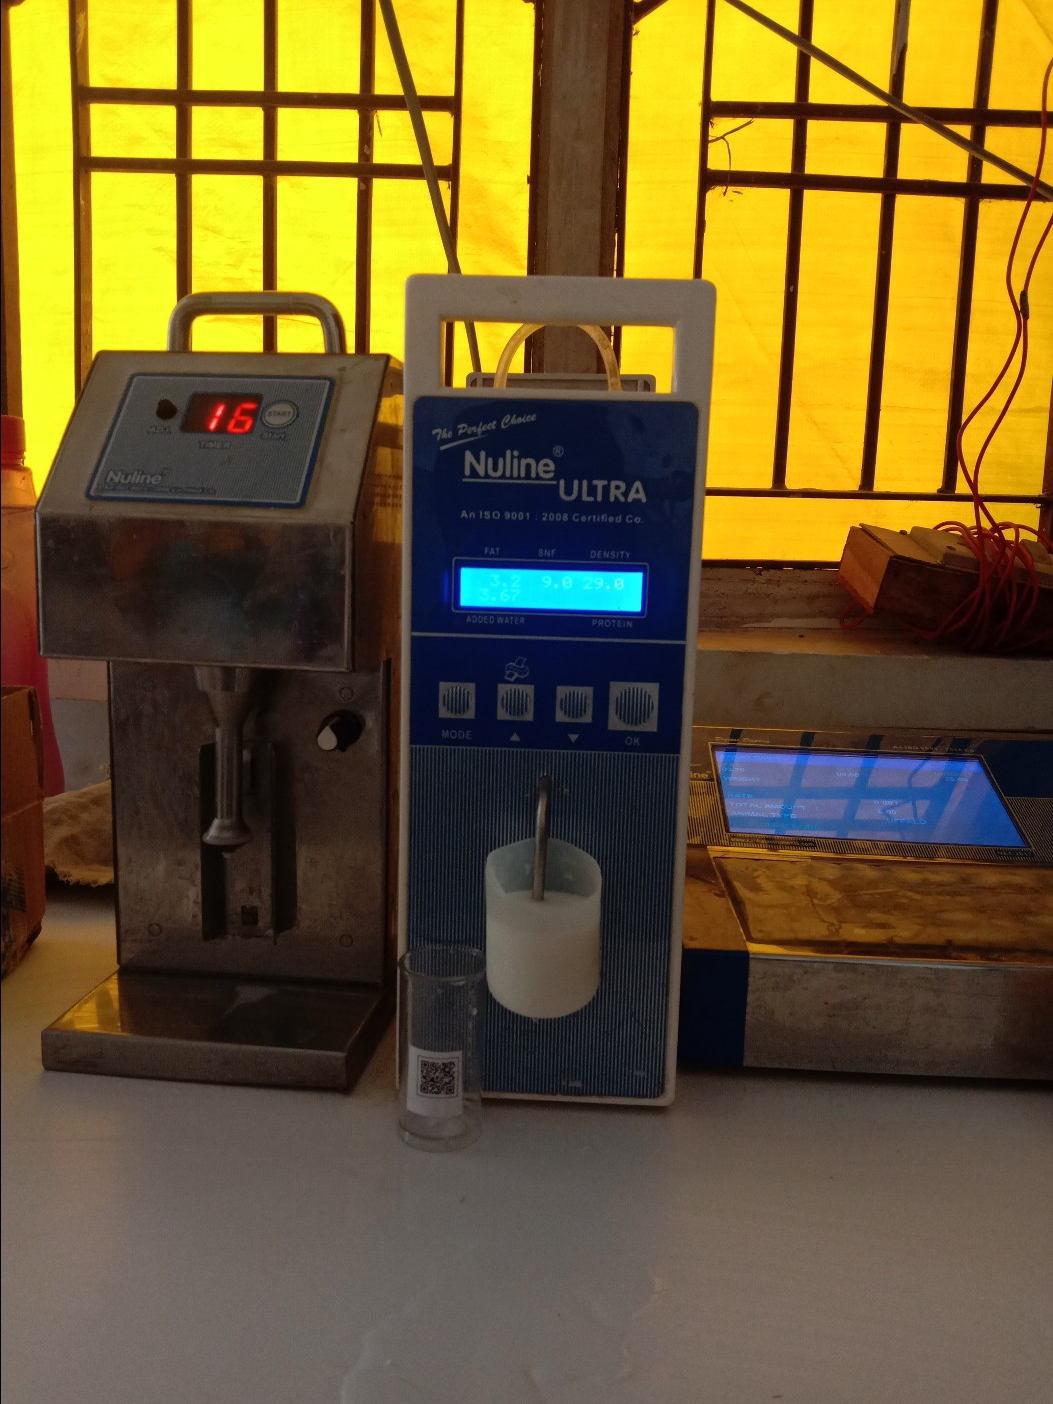lcd: (451, 563, 655, 610)
qr: (411, 1057, 459, 1110)
